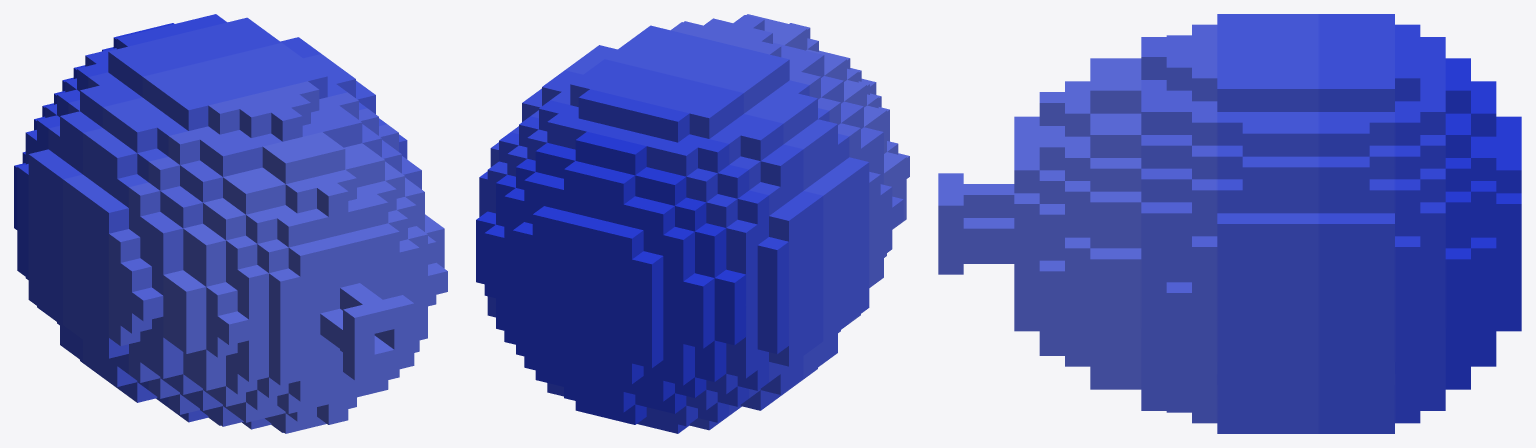
Rendered from water_bomb.fbx.
The picture shows the model from 3 angles, left to right: view 1: azimuth 30°, elevation 25°; view 2: azimuth 150°, elevation 25°; view 3: azimuth 270°, elevation 25°; orthographic projection. The views are drawn at different scales.
Parts seen in each view (by area): view 1: water_bomb; view 2: water_bomb; view 3: water_bomb.
Boxes of the visible parts, x1,y1,x2,y2 form: water_bomb: (14,14,447,433); water_bomb: (476,14,909,433); water_bomb: (938,14,1521,433).
Size of the model in its own units: 15 by 15 by 23.
